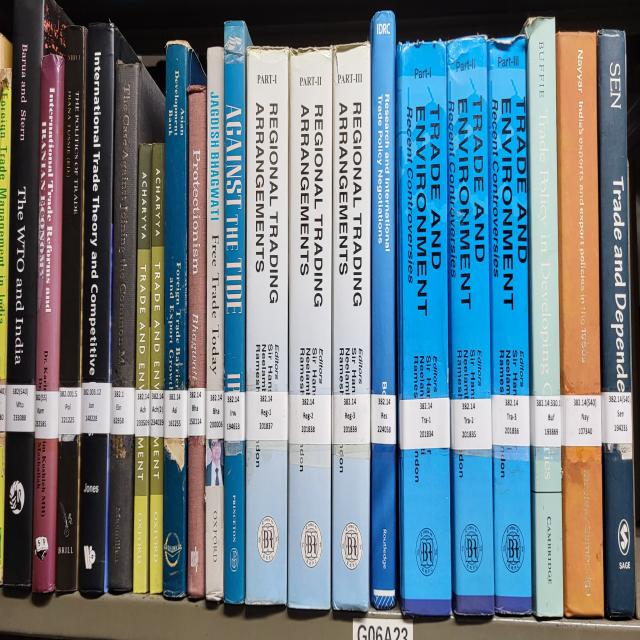Book: (4, 0, 69, 590), (79, 24, 138, 595), (396, 41, 451, 617), (109, 60, 165, 593), (446, 35, 495, 617), (488, 35, 531, 614), (288, 49, 332, 609), (162, 41, 206, 598), (245, 49, 289, 603), (331, 43, 371, 611), (56, 27, 88, 593), (32, 54, 65, 593), (224, 22, 251, 603), (370, 11, 396, 609), (205, 46, 225, 601), (188, 84, 208, 598), (132, 143, 152, 593), (151, 244, 165, 390)
Label: (399, 398, 450, 449), (450, 398, 492, 449), (246, 392, 288, 441), (289, 395, 331, 444), (561, 395, 601, 446), (331, 392, 370, 444), (491, 395, 530, 446), (81, 381, 111, 436), (601, 392, 632, 444), (530, 395, 561, 446), (6, 384, 36, 433), (371, 392, 396, 444), (59, 387, 81, 441), (111, 387, 135, 436), (35, 390, 59, 438), (164, 390, 188, 438), (224, 390, 245, 441), (188, 387, 206, 436), (206, 390, 224, 438), (135, 390, 150, 436), (150, 390, 164, 438)
